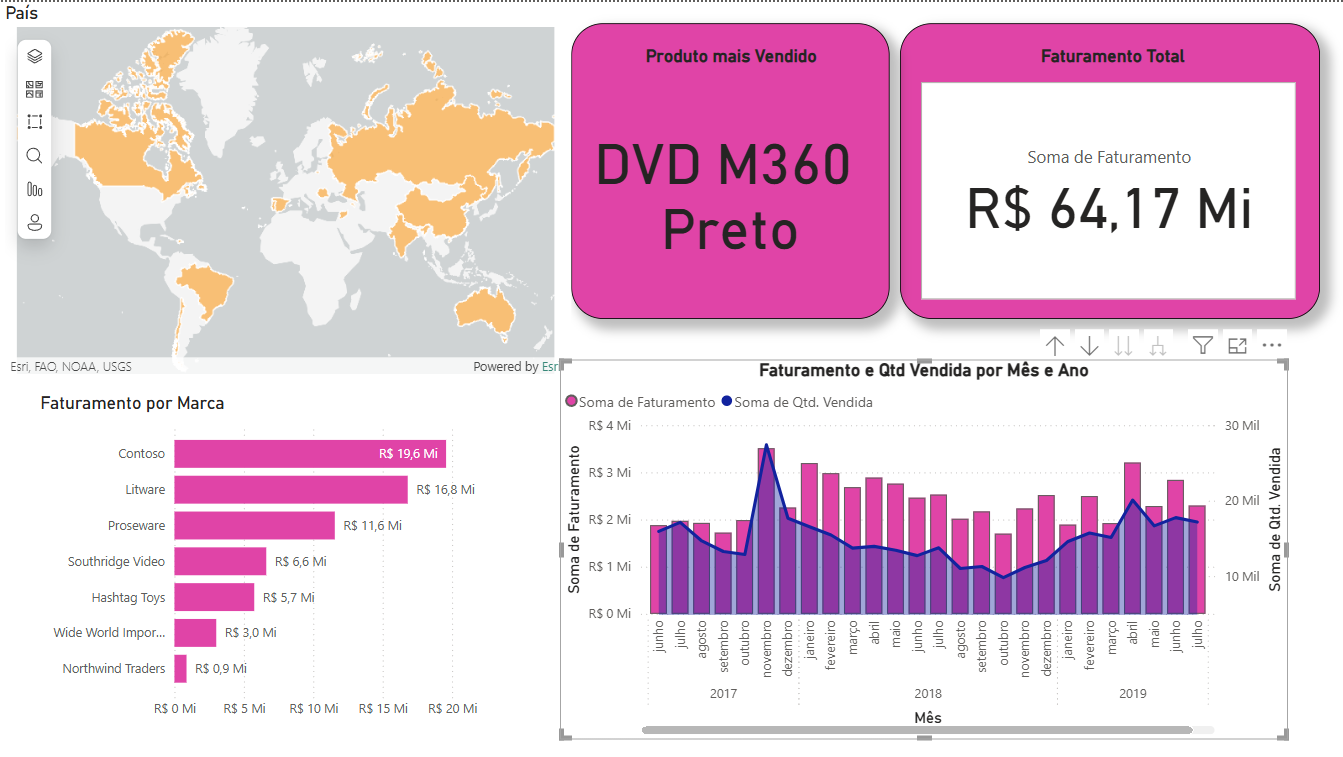

The page's visual inventory and layout, read from the dashboard file:
{"tool":"powerbi","page":{"name":"Dashboard Vendas 2025","canvas":[1280,720],"ordinal":0},"visuals":[{"type":"cardVisual","title":"Faturamento Total","fields":{"Data":["Sum(Planilha Vendas.Faturamento)"]},"box":[857.2,20.8,399.9,281.3],"z":0},{"type":"card","title":"Produto mais Vendido","fields":{"Values":["Min(Planilha Vendas.Produto)"]},"box":[544.2,20.8,303.3,281.3],"z":1000},{"type":"barChart","title":"Faturamento por Marca","fields":{"Y":["Sum(Planilha Vendas.Faturamento)"],"Category":["Planilha Vendas.Marca"]},"box":[33,371.7,479.4,320.4],"z":2000},{"type":"lineStackedColumnComboChart","title":"Faturamento e Qtd Vendida por Mês e Ano","fields":{"Y":["Sum(Planilha Vendas.Faturamento)"],"Y2":["Sum(Planilha Vendas.Qtd. Vendida)"],"Category":["Planilha Vendas.Data da Venda.Variation.Hierarquia de datas.Ano","Planilha Vendas.Data da Venda.Variation.Hierarquia de datas.Mês"]},"box":[533.2,339.9,693.3,362],"z":3000},{"type":"esriVisual","fields":{"Location":["Planilha Vendas.País"]},"box":[0,0,544.2,359.5],"z":4000}]}

Visuals, with their boxes in screenshot pixels (x1, y1, x2, y2), scaled from the page's 1280x720 canvas onto the 1343x757 screenshot:
"Faturamento Total" cardVisual: bbox=(899, 22, 1319, 318)
"Produto mais Vendido" card: bbox=(571, 22, 889, 318)
"Faturamento por Marca" barChart: bbox=(35, 391, 538, 728)
"Faturamento e Qtd Vendida por Mês e Ano" lineStackedColumnComboChart: bbox=(559, 357, 1287, 738)
esriVisual - Planilha Vendas.País: bbox=(0, 0, 571, 378)
